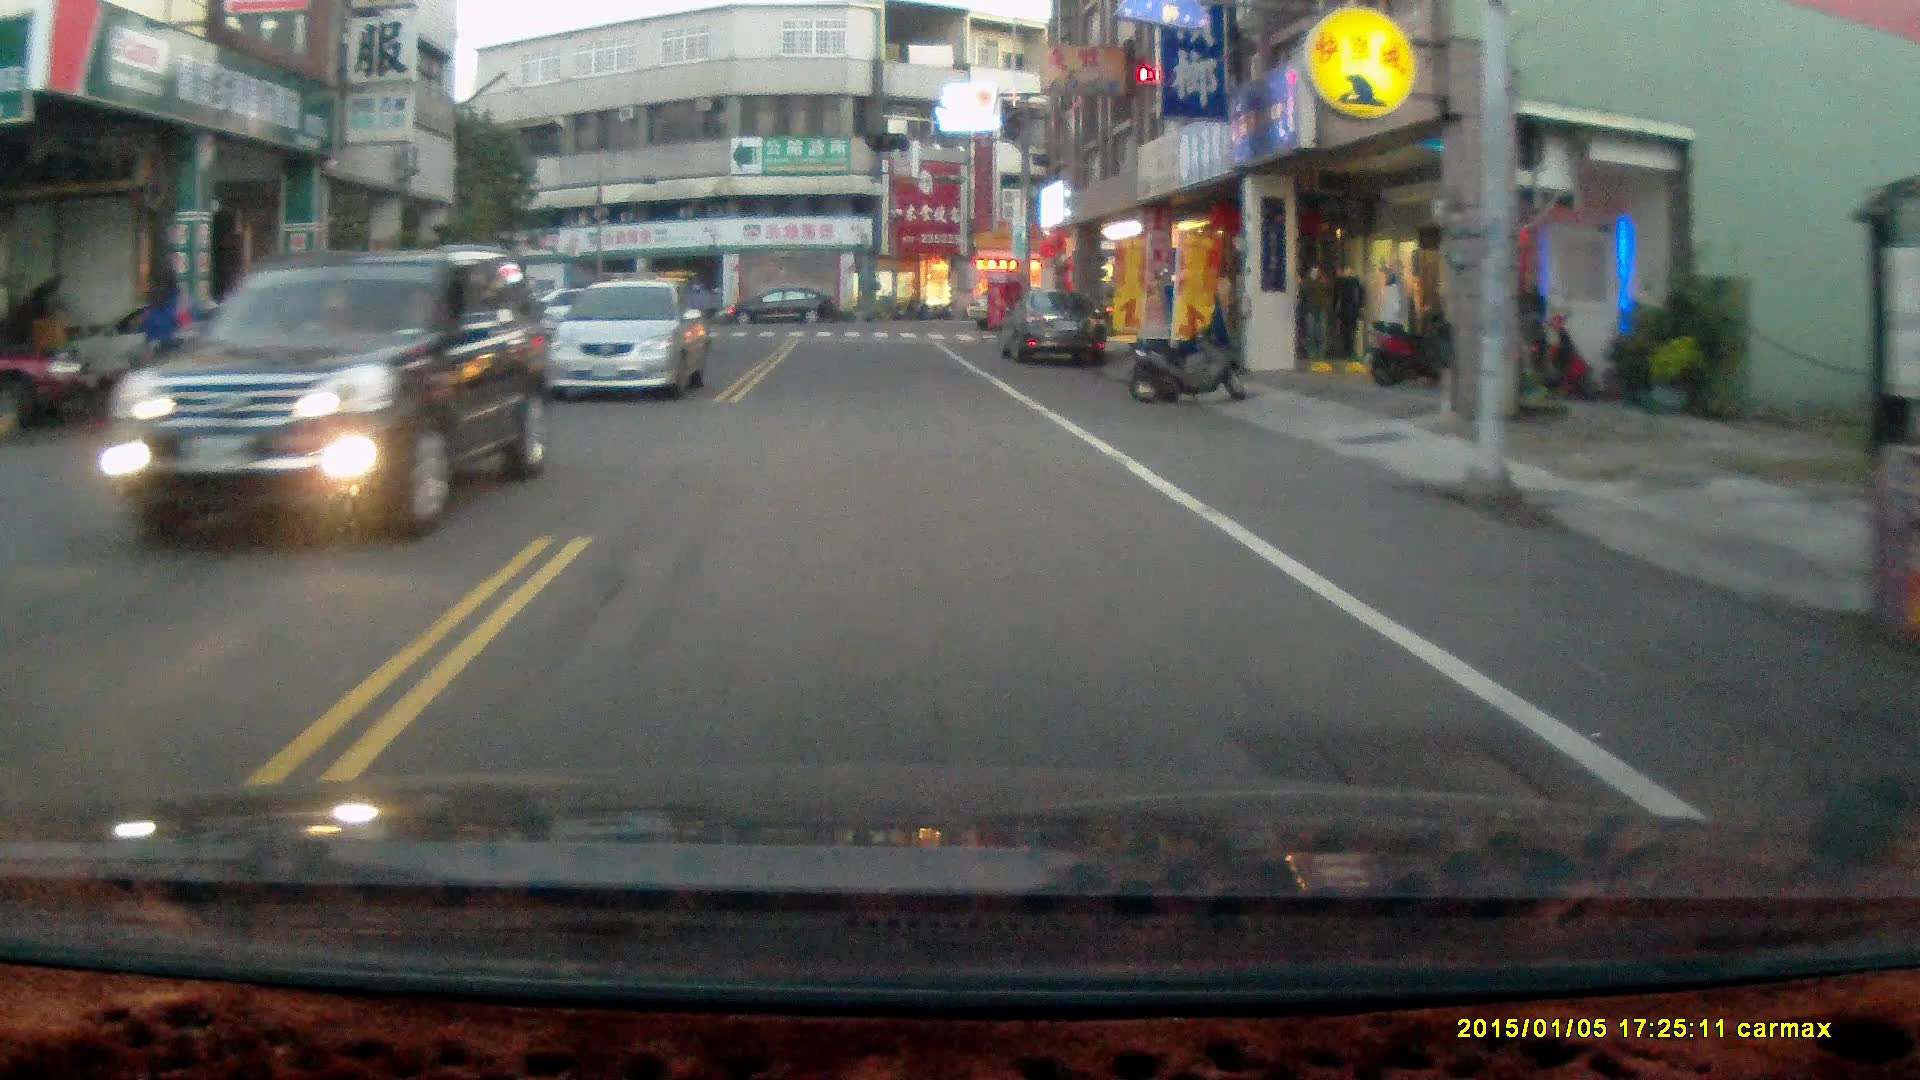pedestrian: (146, 261, 190, 409)
vehicle: (119, 246, 542, 546), (558, 279, 709, 402), (998, 286, 1110, 372), (722, 287, 840, 333)
